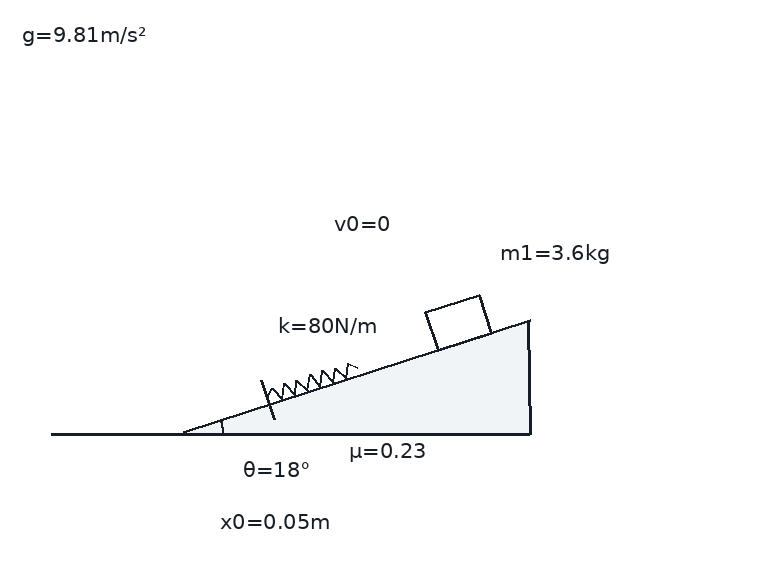block: (424, 292, 493, 352)
ramp: (181, 319, 531, 435)
spring: (265, 361, 359, 401)
